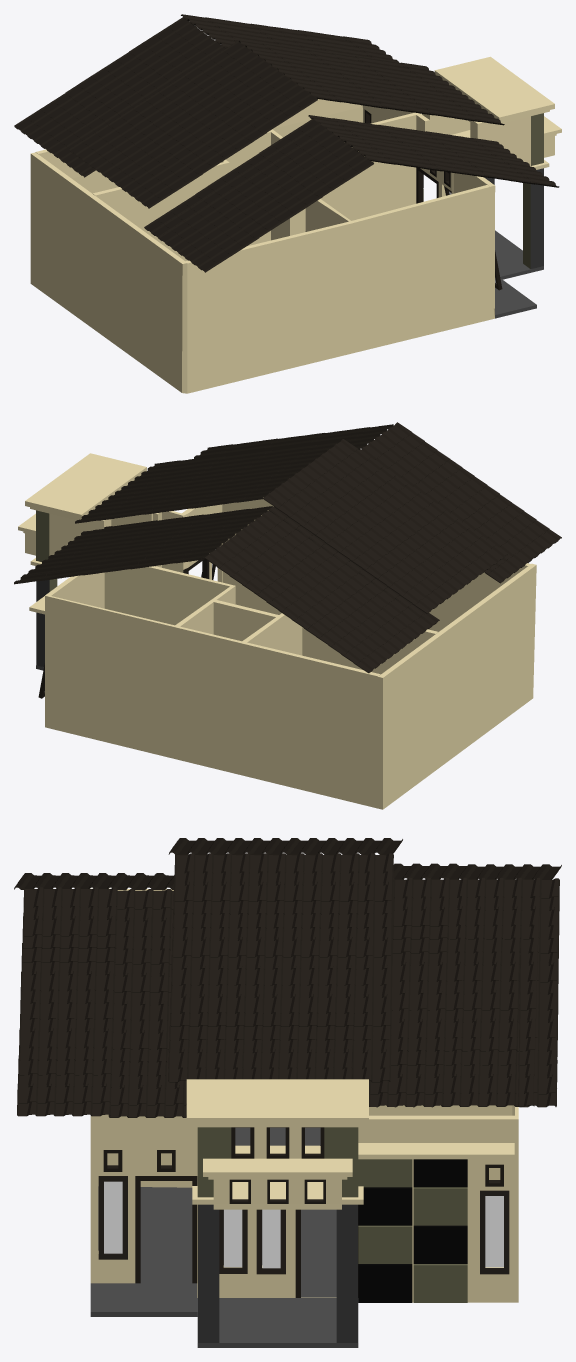
Rendered from 3dmodel.fbx.
3 views of the same model, one above another, from view 1: azimuth 30°, elevation 25°; view 2: azimuth 150°, elevation 25°; view 3: azimuth 270°, elevation 25° (orthographic). The views are drawn at different scales.
Visible parts, largest first — view 1: Cube, Plane.029, Plane, teras.005, Plane.002, Plane.030, Plane.016, lantai teras, Plane.004, Plane.017, Plane.032, Plane.039 (+30 smaller); view 2: Cube, Plane, teras.005, Plane.001, Plane.002, Plane.016, Plane.029, Plane.017, Plane.004, Plane.023, Plane.009, Plane.010 (+29 smaller); view 3: Cube, Plane.029, Plane, Plane.002, Plane.016, lantai teras, Cube.002, Plane.030, Plane.001, teras.005, Plane.003, teras.006 (+13 smaller).
Boxes of the visible parts, x1,y1,x2,y2 form: Cube: [30, 99, 495, 393]; Plane.029: [337, 135, 559, 187]; Plane: [283, 73, 504, 125]; teras.005: [434, 56, 554, 121]; Plane.002: [251, 49, 468, 99]; Plane.030: [308, 115, 522, 161]; Plane.016: [187, 18, 398, 62]; lantai teras: [495, 230, 543, 318]; Plane.004: [69, 41, 245, 155]; Plane.017: [14, 17, 190, 131]; Plane.032: [158, 129, 334, 243]; Plane.039: [144, 118, 319, 233]; Cube: [45, 497, 536, 809]; Plane: [121, 440, 340, 489]; teras.005: [25, 453, 146, 519]; Plane.001: [54, 506, 272, 553]; Plane.002: [89, 464, 307, 511]; Plane.016: [22, 529, 241, 576]; Plane.029: [194, 424, 393, 458]; Plane.017: [204, 552, 375, 673]; Plane.004: [262, 492, 434, 613]; Plane.023: [238, 527, 409, 647]; Plane.009: [297, 468, 467, 589]; Plane.010: [304, 463, 474, 584]; Cube: [90, 888, 518, 1302]; Plane.029: [17, 887, 117, 1116]; Plane: [168, 853, 268, 1082]; Plane.002: [262, 853, 359, 1079]; Plane.016: [441, 878, 541, 1106]; lantai teras: [90, 1127, 358, 1347]; Cube.002: [358, 1159, 467, 1302]; Plane.030: [108, 889, 186, 1117]; Plane.001: [369, 878, 450, 1107]; teras.005: [186, 1079, 368, 1124]; Plane.003: [352, 853, 393, 1082]; teras.006: [198, 1204, 357, 1342].
Bounding box in the file's own units: 1284 × 686 × 1024.
